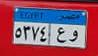3: (23, 24, 31, 41)
4: (40, 26, 47, 43)
5: (14, 26, 22, 40)
7: (31, 25, 39, 41)
ain: (56, 26, 67, 44)
waw: (69, 30, 79, 43)
